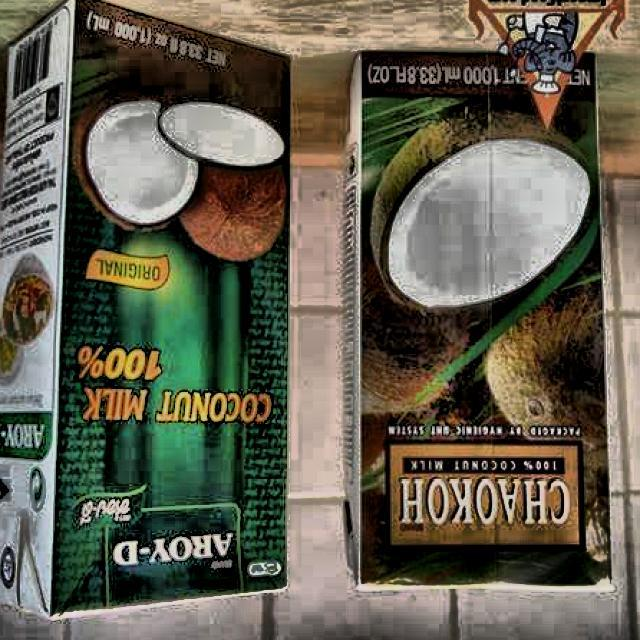cardboard: (1, 0, 293, 623), (343, 51, 616, 593)
